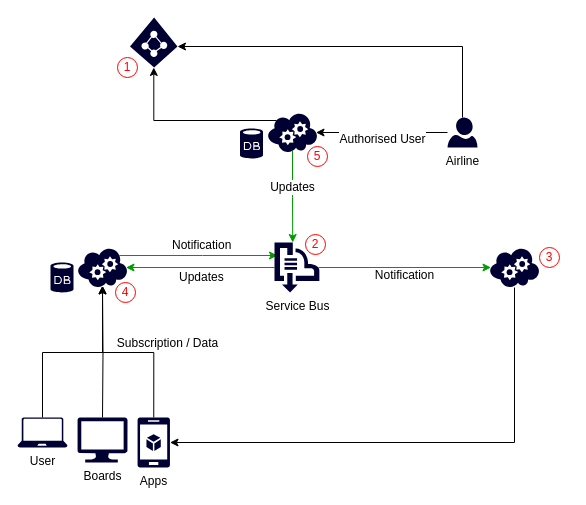
Some shapes in this 586 by 505 pixel diagram are drawn without their labels. The shapes that lost their labels are listed below. From the top down, each one's centre as x and y in pixels, then its label:
At (x=153, y=42): "Auth".
At (x=292, y=132): "Flight Service".
At (x=102, y=267): "Dashboard Service".
At (x=514, y=267): "Notifications Service".
